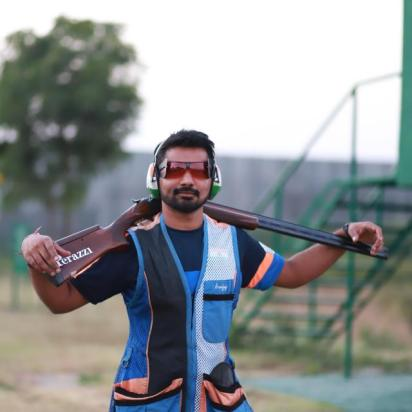Gun: (26, 193, 392, 294)
